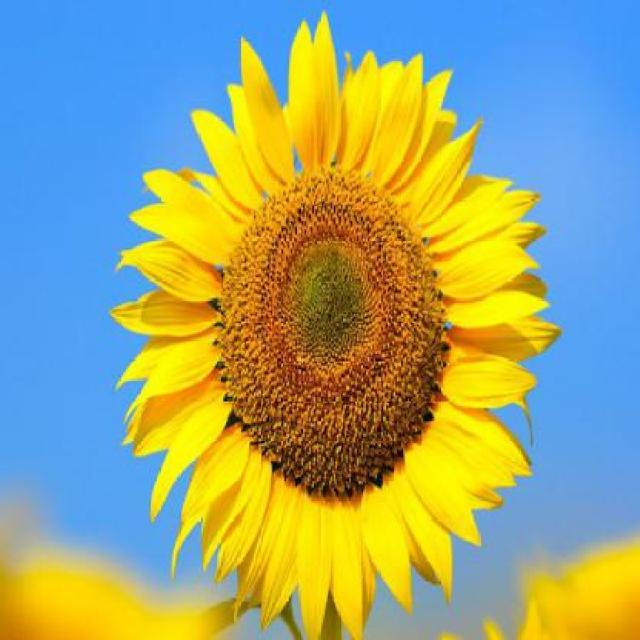sunflower: (108, 30, 561, 628)
